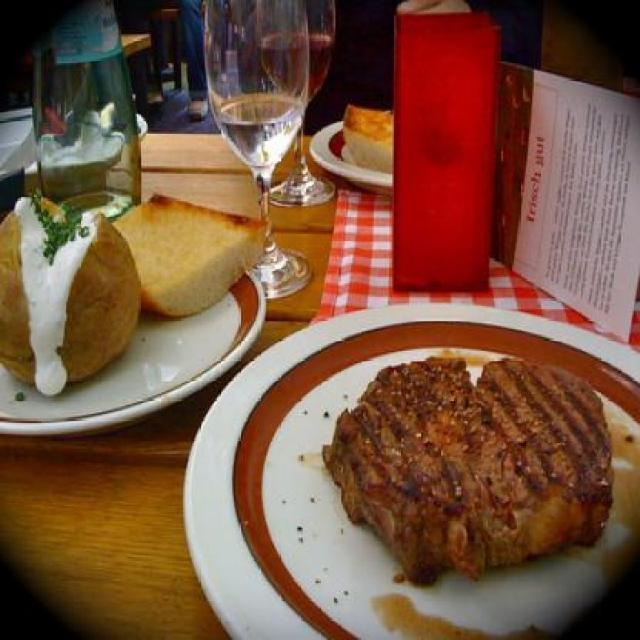Steak: (312, 326, 610, 584)
